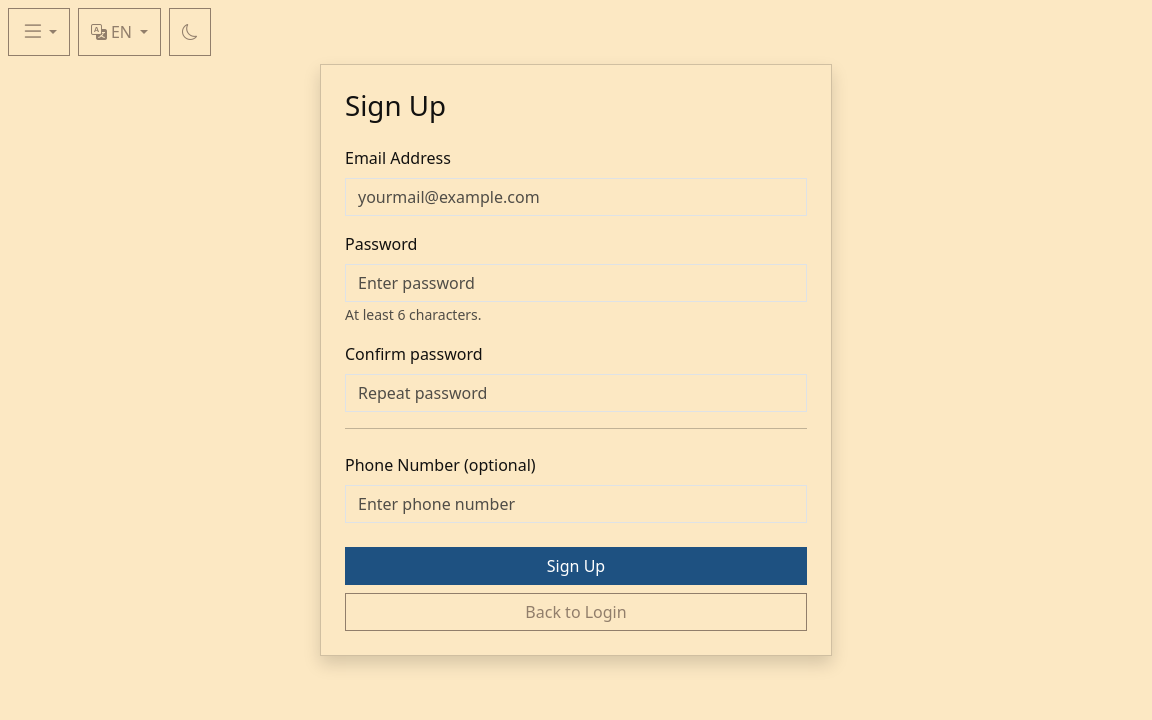
Test: SignUp › reports an already registered email
Step 1. Type "existing@example.com" into the field labelled "Email Address" → coordinates (576, 197), box [345, 178, 807, 216]
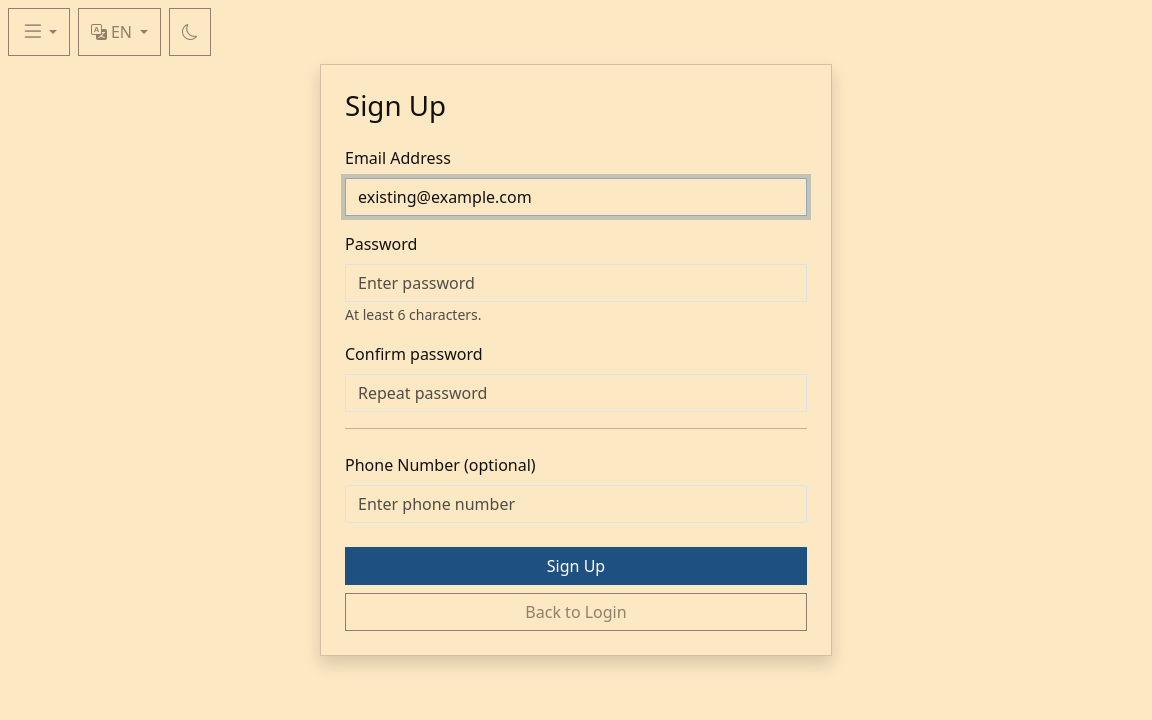
Step 2. Type "password123" into the password field labelled "Password" → coordinates (576, 283), box [345, 264, 807, 302]
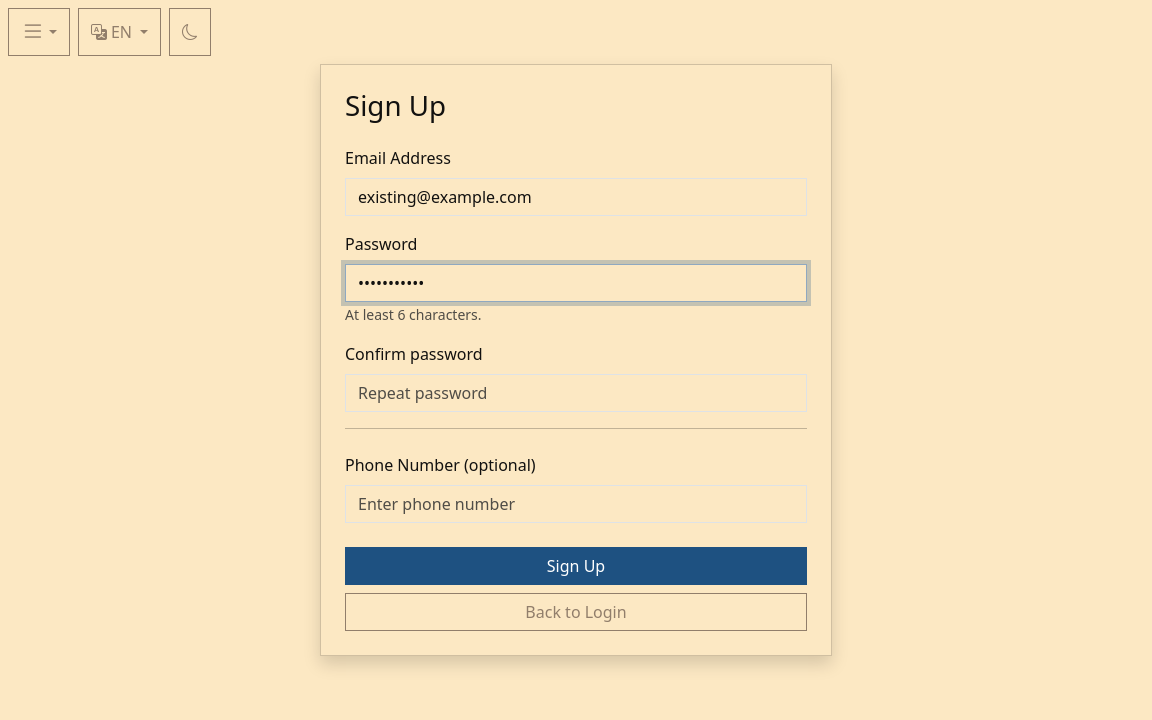
Step 3. Type "password123" into the password field labelled "Confirm password" → coordinates (576, 393), box [345, 374, 807, 412]
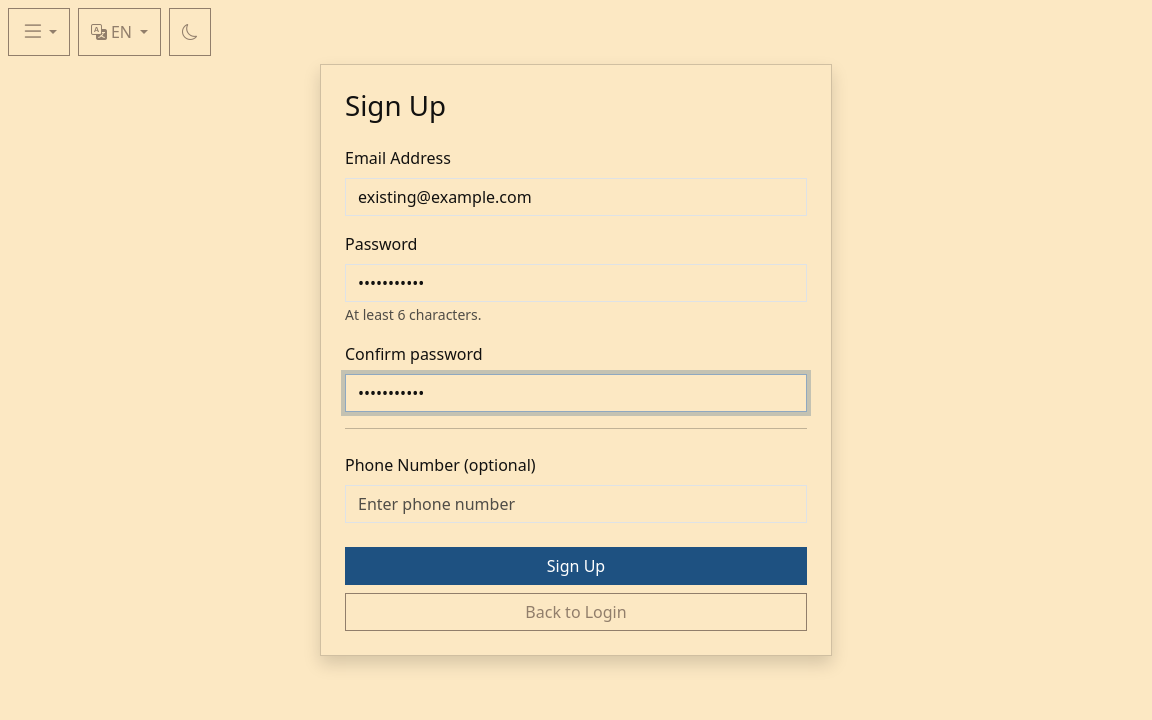
Step 4. Click the button "Sign Up" → coordinates (576, 566), box [345, 547, 807, 585]
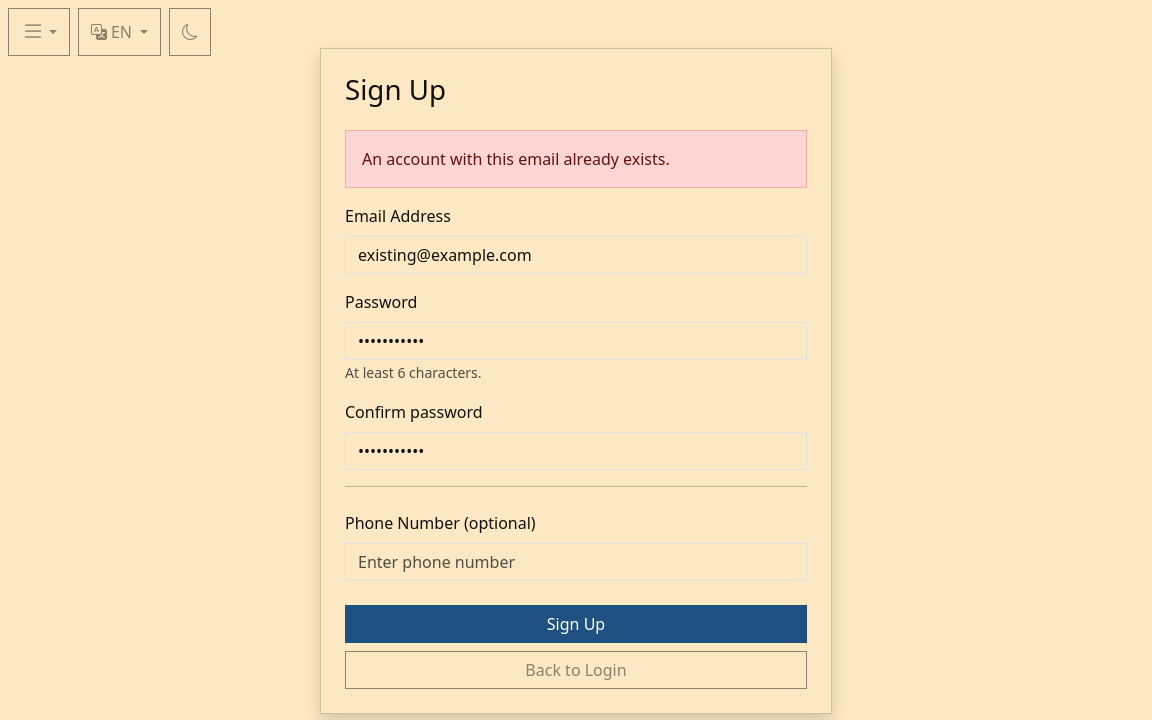
Expected: the text "An account with this email already exists." is shown, [345, 130, 807, 188]
